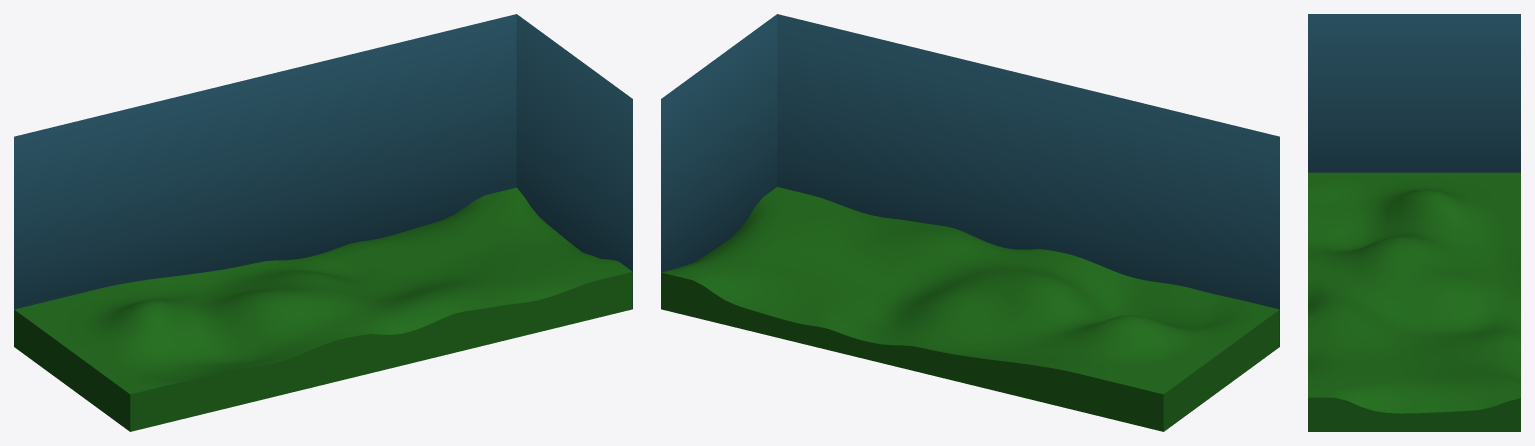
The model's file is classic.glb.
3 renders of one model, left to right at view 1: azimuth 30°, elevation 25°; view 2: azimuth 150°, elevation 25°; view 3: azimuth 270°, elevation 25°, orthographic. The views are drawn at different scales.
Visible parts, largest first — view 1: Walls, Ground; view 2: Walls, Ground; view 3: Ground, Walls.
Part boxes in pixels (<box>): Walls: <box>14,14,632,346</box>; Ground: <box>14,187,632,431</box>; Walls: <box>661,14,1279,346</box>; Ground: <box>661,187,1279,431</box>; Ground: <box>1308,172,1520,431</box>; Walls: <box>1308,14,1520,172</box>.
Size of the model in its own units: 0.75 by 0.3 by 0.3.
